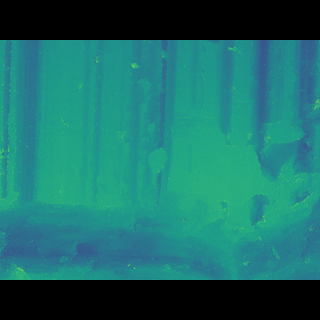Loch: (0, 188, 320, 249), (152, 105, 319, 191)
